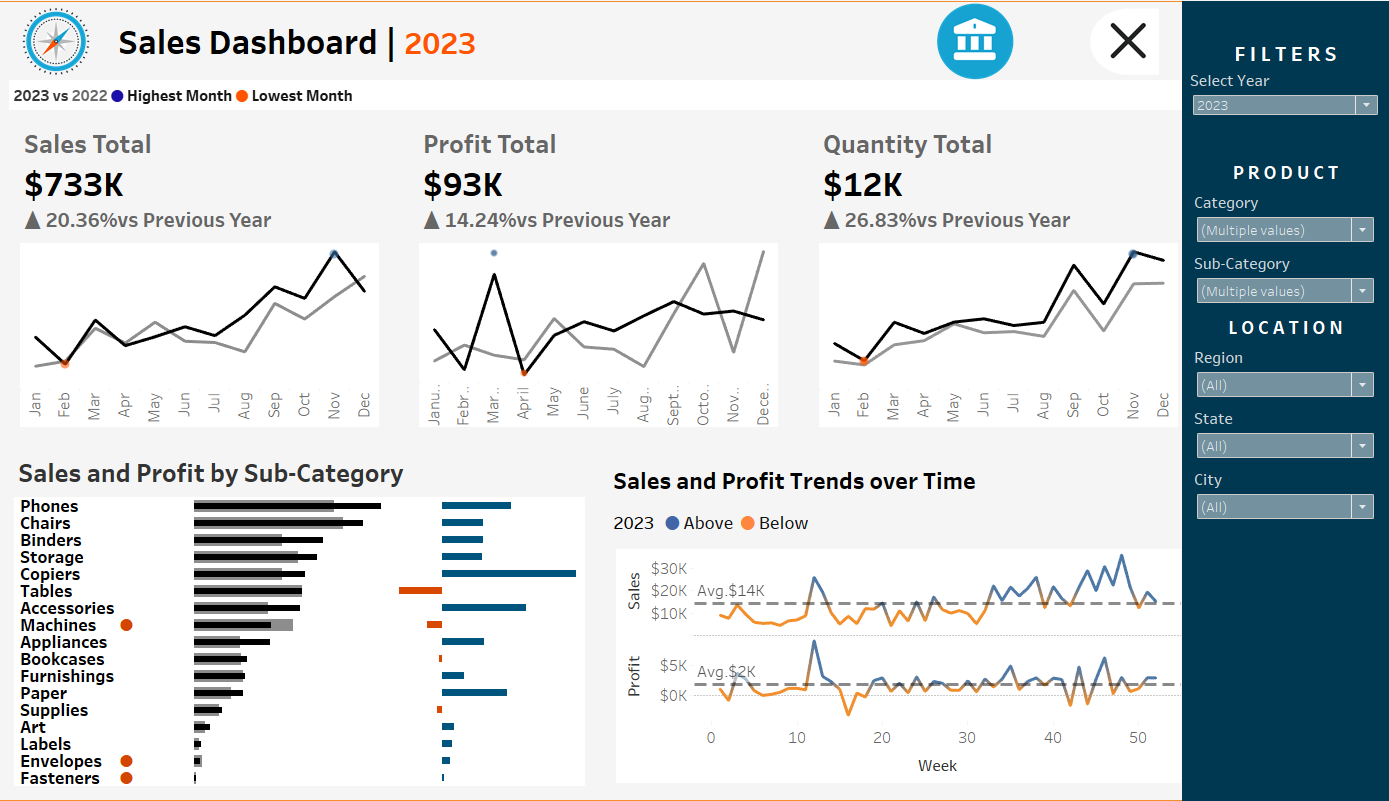

The dashboard page shown, as its layout file describes it:
{"tool":"tableau","page":{"name":"Sales Dashboard","canvas":[1200,800],"ordinal":0},"visuals":[{"type":"image","param":"Image/Icon - Logo.png","box":[1,1,111,78]},{"type":"text","box":[112,1,788,78]},{"type":"dashboard-object","box":[900,1,150,78]},{"type":"dashboard-object","box":[1050,1,149,78]},{"type":"worksheet","title":"Legend KPI ","mark":"Automatic","box":[1,79,1198,30]},{"type":"worksheet","title":"Sales","mark":"Automatic","rows":["Calculation_554787236672757764"],"cols":["Order Date"],"box":[1,109,399.3,337]},{"type":"worksheet","title":"Profit","mark":"Automatic","rows":["Min/Max (copy)_554787236997234701"],"cols":["Order Date"],"box":[400.3,109,399.3,337]},{"type":"worksheet","title":"Quantity","mark":"Automatic","rows":["Min/Max (copy)_554787237018701844"],"cols":["Order Date"],"box":[799.6,109,399.3,337]},{"type":"text","box":[5,450,591,42]},{"type":"text","box":[607,453,585,52]},{"type":"worksheet","title":"Sub category","mark":"Bar","rows":["Sub-Category","Calculation_554787237245960215"],"cols":["Sales Year 2023 (copy)_554787236640071681","Calculation_554787236639277056","Current Year Sales (copy)_554787236994527242"],"box":[5,492,591,302.9]},{"type":"text","box":[607,505,585,32]},{"type":"worksheet","title":"Weekly trends","mark":"Automatic","rows":["Calculation_554787236639277056","Current Year Sales (copy)_554787236994527242"],"cols":["Order Date"],"box":[607,537,585,255]}]}

Visuals, with their boxes on the page's 1200x800 design canvas (x1, y1, x2, y2). These are canvas units, not pixel positions in the 1389x801 screenshot, which may show the page scaled, cropped or inside an application window:
image: BBox(1, 1, 112, 79)
text: BBox(112, 1, 900, 79)
dashboard-object: BBox(900, 1, 1050, 79)
dashboard-object: BBox(1050, 1, 1199, 79)
"Legend KPI " worksheet: BBox(1, 79, 1199, 109)
"Sales" worksheet: BBox(1, 109, 400, 446)
"Profit" worksheet: BBox(400, 109, 800, 446)
"Quantity" worksheet: BBox(800, 109, 1199, 446)
text: BBox(5, 450, 596, 492)
text: BBox(607, 453, 1192, 505)
"Sub category" worksheet (Bar marks): BBox(5, 492, 596, 795)
text: BBox(607, 505, 1192, 537)
"Weekly trends" worksheet: BBox(607, 537, 1192, 792)
